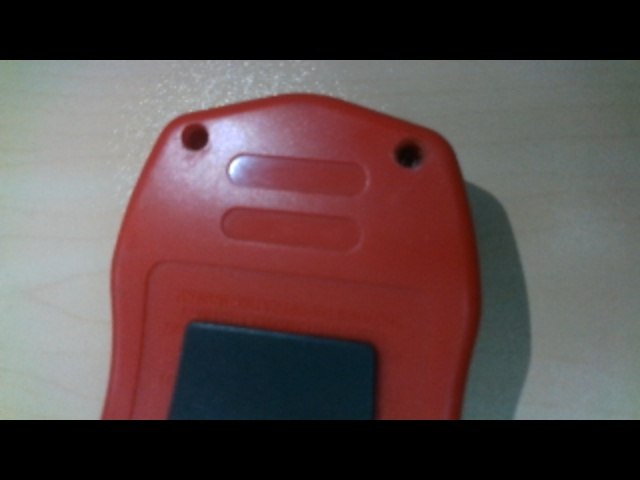Screw holes: (391, 136, 426, 170), (181, 120, 212, 151)
